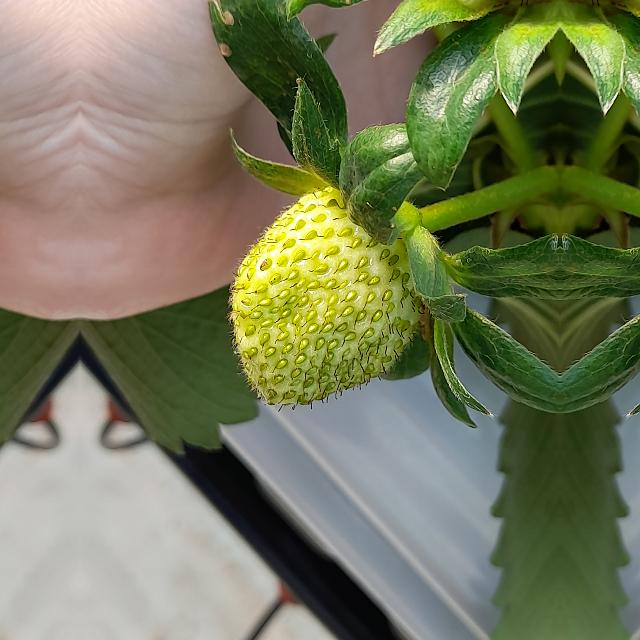Health_25: (225, 185, 425, 413)
